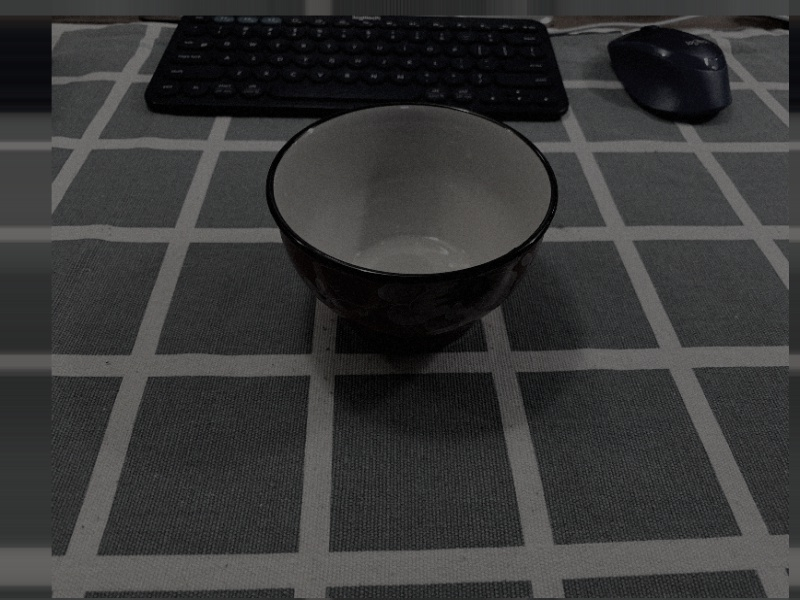bowl_small: (261, 96, 566, 360)
